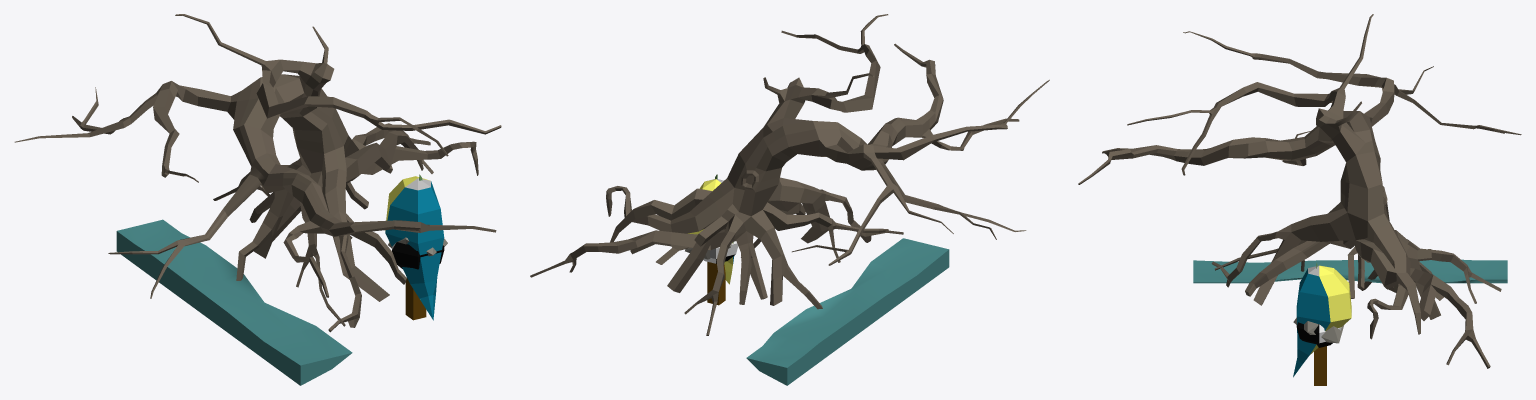
File: chickadee-tree-aecb9b.glb
The picture shows the model from 3 angles, left to right: view 1: azimuth 30°, elevation 25°; view 2: azimuth 150°, elevation 25°; view 3: azimuth 270°, elevation 25°; orthographic projection. The views are drawn at different scales.
Parts seen in each view (by area): view 1: PropMesh; view 2: PropMesh; view 3: PropMesh.
Part boxes in pixels (box(x1,y1,x2,y2)): PropMesh: box(14, 14, 501, 385); PropMesh: box(530, 14, 1049, 385); PropMesh: box(1078, 14, 1521, 385).
Size of the model in its own units: 3.13 by 2.2 by 3.13.
